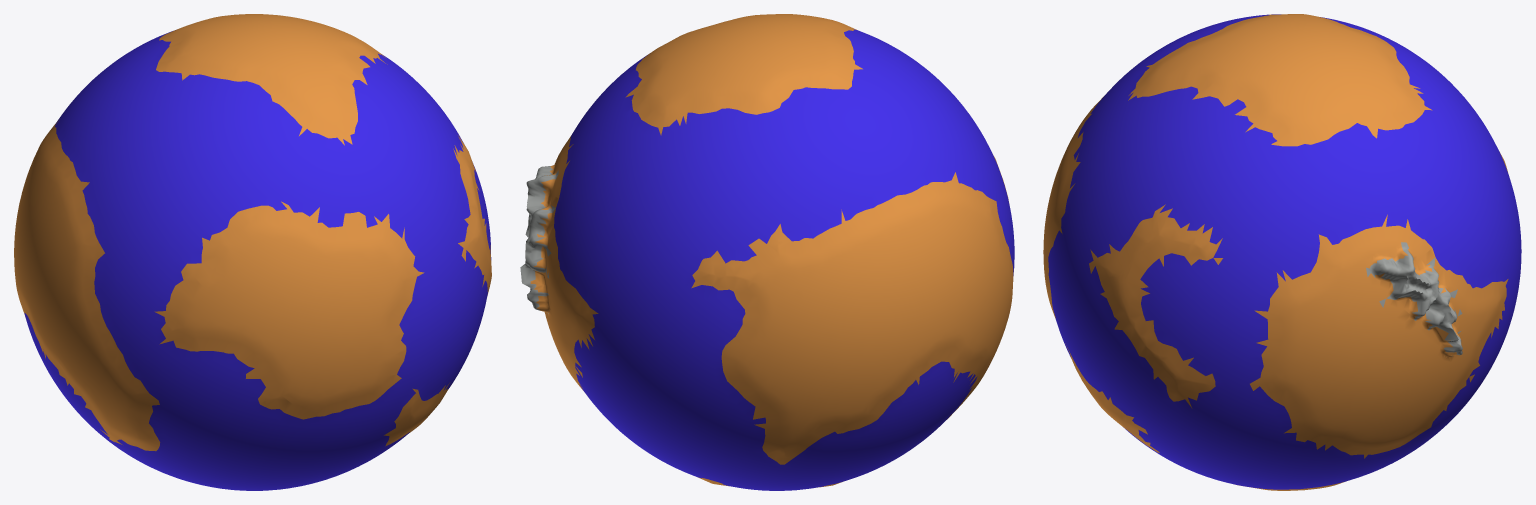
File: TestPlanet.fbx
3 views of the same model, side by side, from view 1: azimuth 30°, elevation 25°; view 2: azimuth 150°, elevation 25°; view 3: azimuth 270°, elevation 25° (orthographic).
Visible parts, largest first — view 1: TestPlanet01; view 2: TestPlanet01; view 3: TestPlanet01.
Part boxes in pixels (x1,y1,x2,y2): TestPlanet01: (14, 14, 491, 490); TestPlanet01: (520, 14, 1014, 490); TestPlanet01: (1043, 14, 1521, 490).
Bounding box in the file's own units: 99.97 × 99.99 × 99.46.
